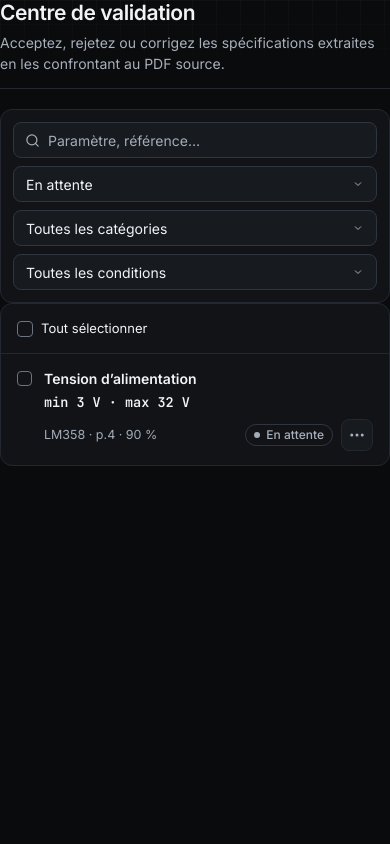
Test: ValidationPage › charge les specs en attente et accepte via POST /specs/{id}/accept
What coordinates should you click on to do the following:
click the button named "Plus d’actions — Tension d’alimentation"
I would click on:
 (357, 436)
Its box is x1=341 y1=420 x2=373 y2=452.
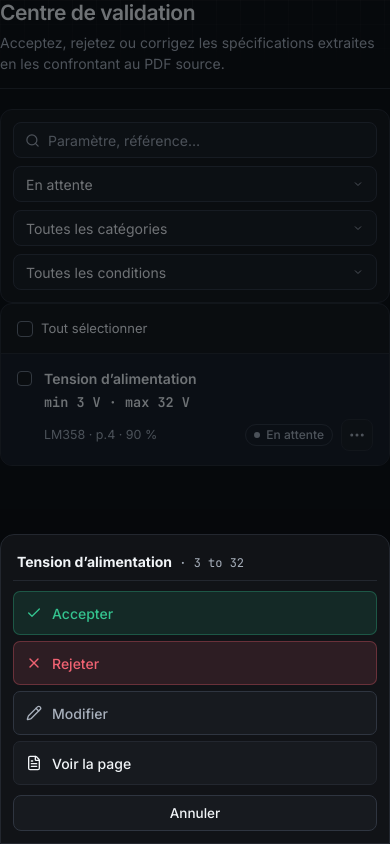
expect the number of buttons with class "sheet-item" is 4: met
What coordinates should you click on to do the following:
click the button "Accepter"
I would click on:
 (83, 613)
Its box is x1=13 y1=591 x2=377 y2=635.
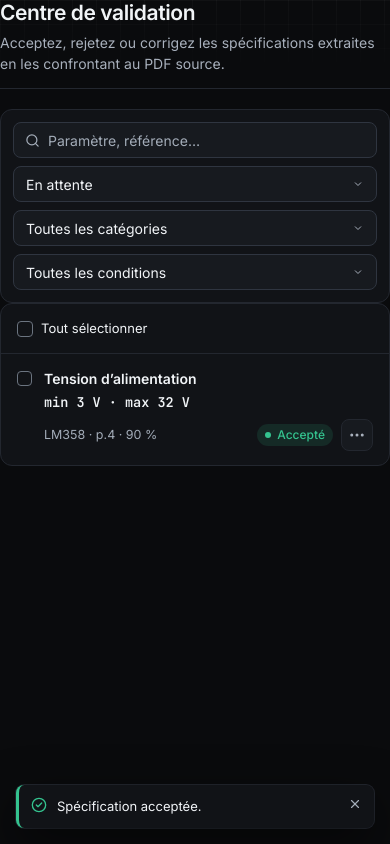
expect the text "Spécification acceptée." is shown: met, box x1=57 y1=798 x2=202 y2=814
